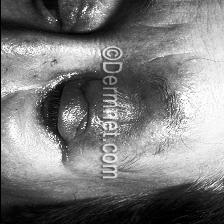Toxin: (132, 80, 154, 144), (115, 86, 133, 152)
